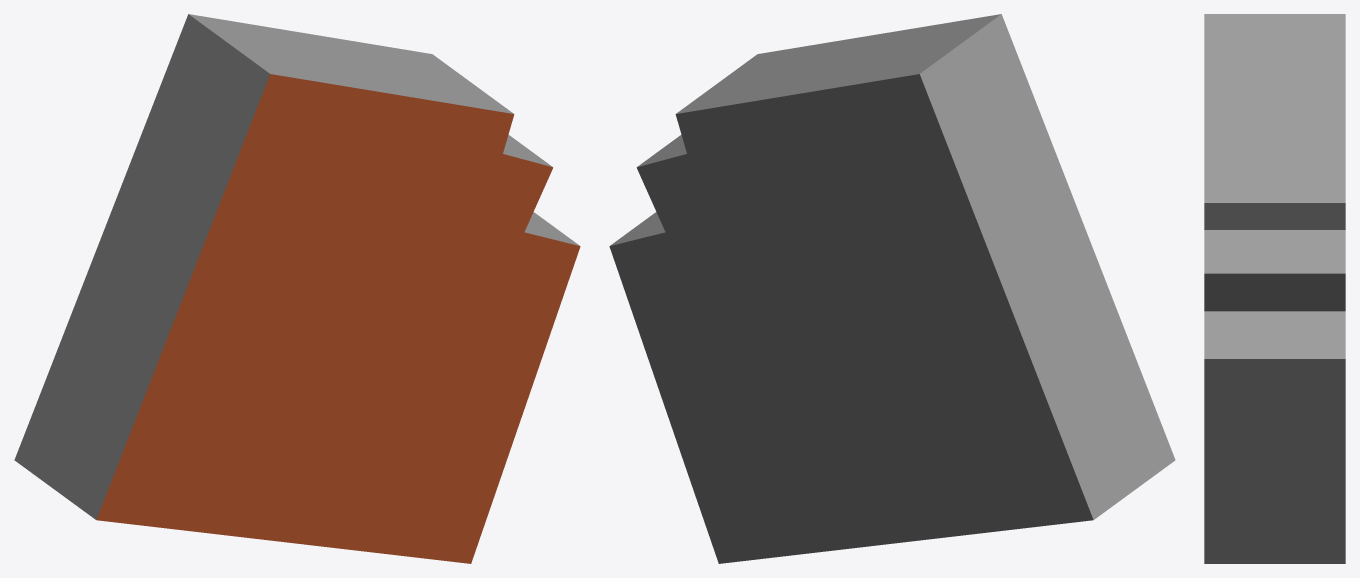
File: construction_6006_assumed_A_Casa_h6m.obj
The picture shows the model from 3 angles, left to right: view 1: azimuth 30°, elevation 25°; view 2: azimuth 150°, elevation 25°; view 3: azimuth 270°, elevation 25°; orthographic projection. The views are drawn at different scales.
Visible parts, largest first — view 1: construction_6006_assumed_A_Casa; view 2: construction_6006_assumed_A_Casa; view 3: construction_6006_assumed_A_Casa.
Boxes of the visible parts, x1,y1,x2,y2 form: construction_6006_assumed_A_Casa: (14, 14, 580, 563); construction_6006_assumed_A_Casa: (609, 14, 1175, 563); construction_6006_assumed_A_Casa: (1204, 14, 1345, 563).
Bounding box in the file's own units: 20.47 × 21.77 × 6.
